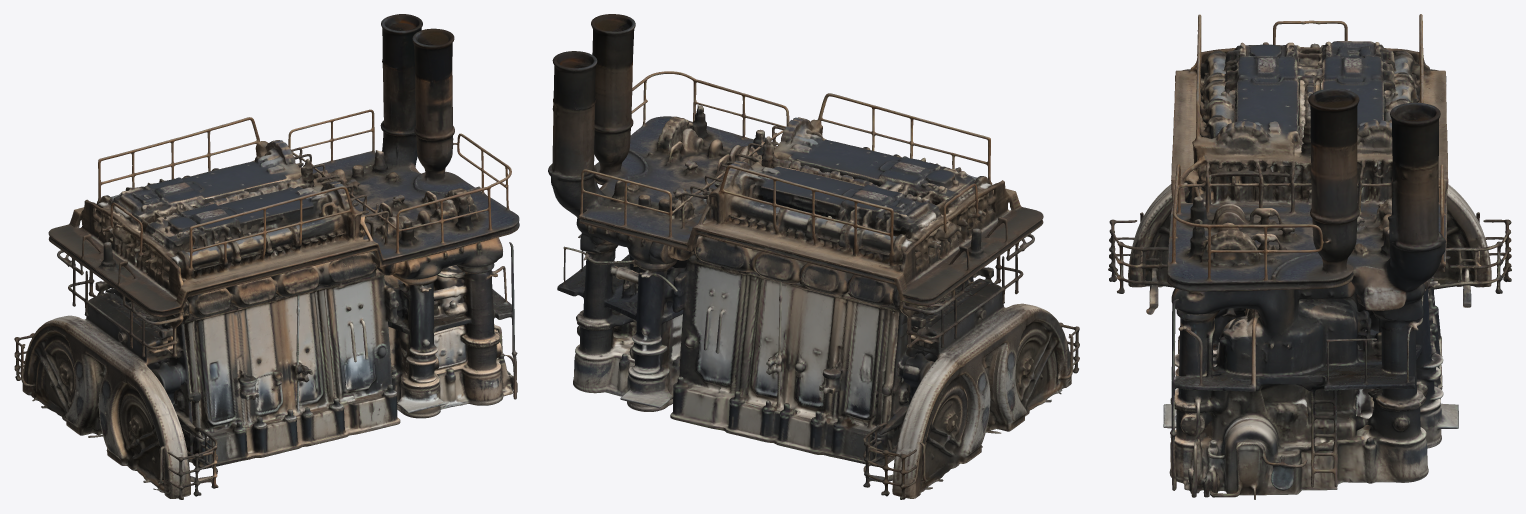
Rendered from maquinaria.glb.
3 renders of one model, left to right at view 1: azimuth 30°, elevation 25°; view 2: azimuth 150°, elevation 25°; view 3: azimuth 270°, elevation 25°, orthographic. The views are drawn at different scales.
Size of the model in its own units: 1.9 by 1.51 by 1.42.
1 material, 1 textured.
